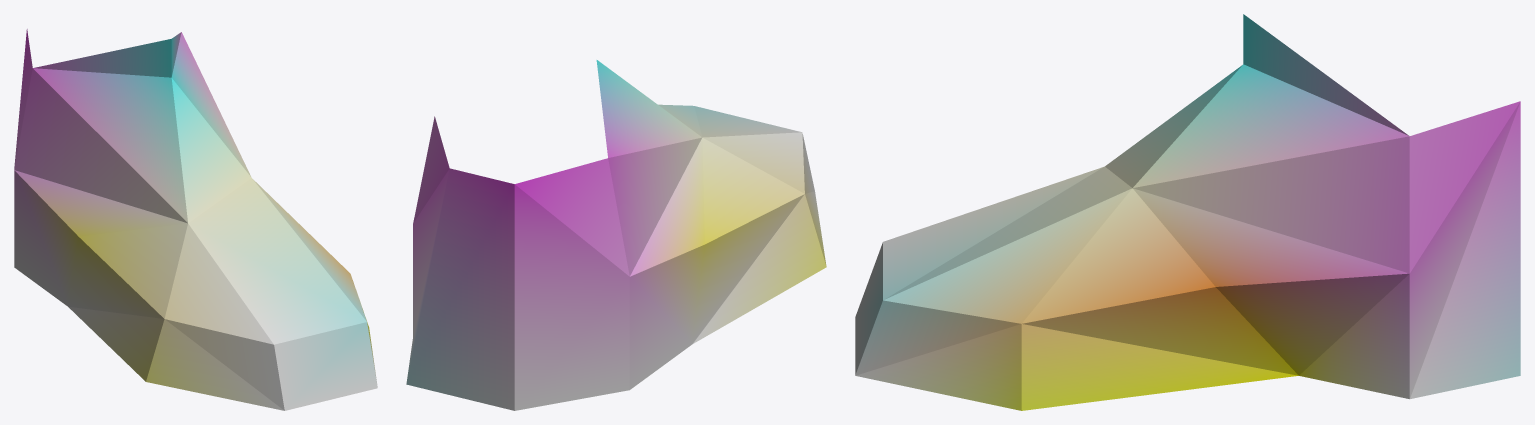
3 renders of one model, left to right at view 1: azimuth 30°, elevation 25°; view 2: azimuth 150°, elevation 25°; view 3: azimuth 270°, elevation 25°, orthographic. The views are drawn at different scales.
Visible parts, largest first — view 1: model_11BC; view 2: model_11BC; view 3: model_11BC.
Boxes of the visible parts, x1,y1,x2,y2 form: model_11BC: [14, 29, 377, 410]; model_11BC: [406, 60, 826, 410]; model_11BC: [855, 14, 1520, 410].
Bounding box in the file's own units: 12 × 13 × 24.
